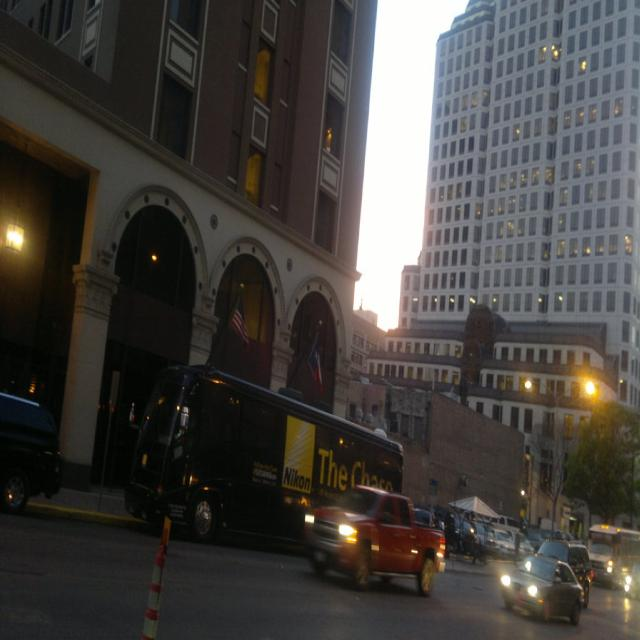Buses: (127, 357, 421, 549), (586, 521, 640, 594)
Passenger Car: (2, 388, 58, 526), (498, 554, 586, 628)
Pickup Trucks: (304, 485, 446, 608)
